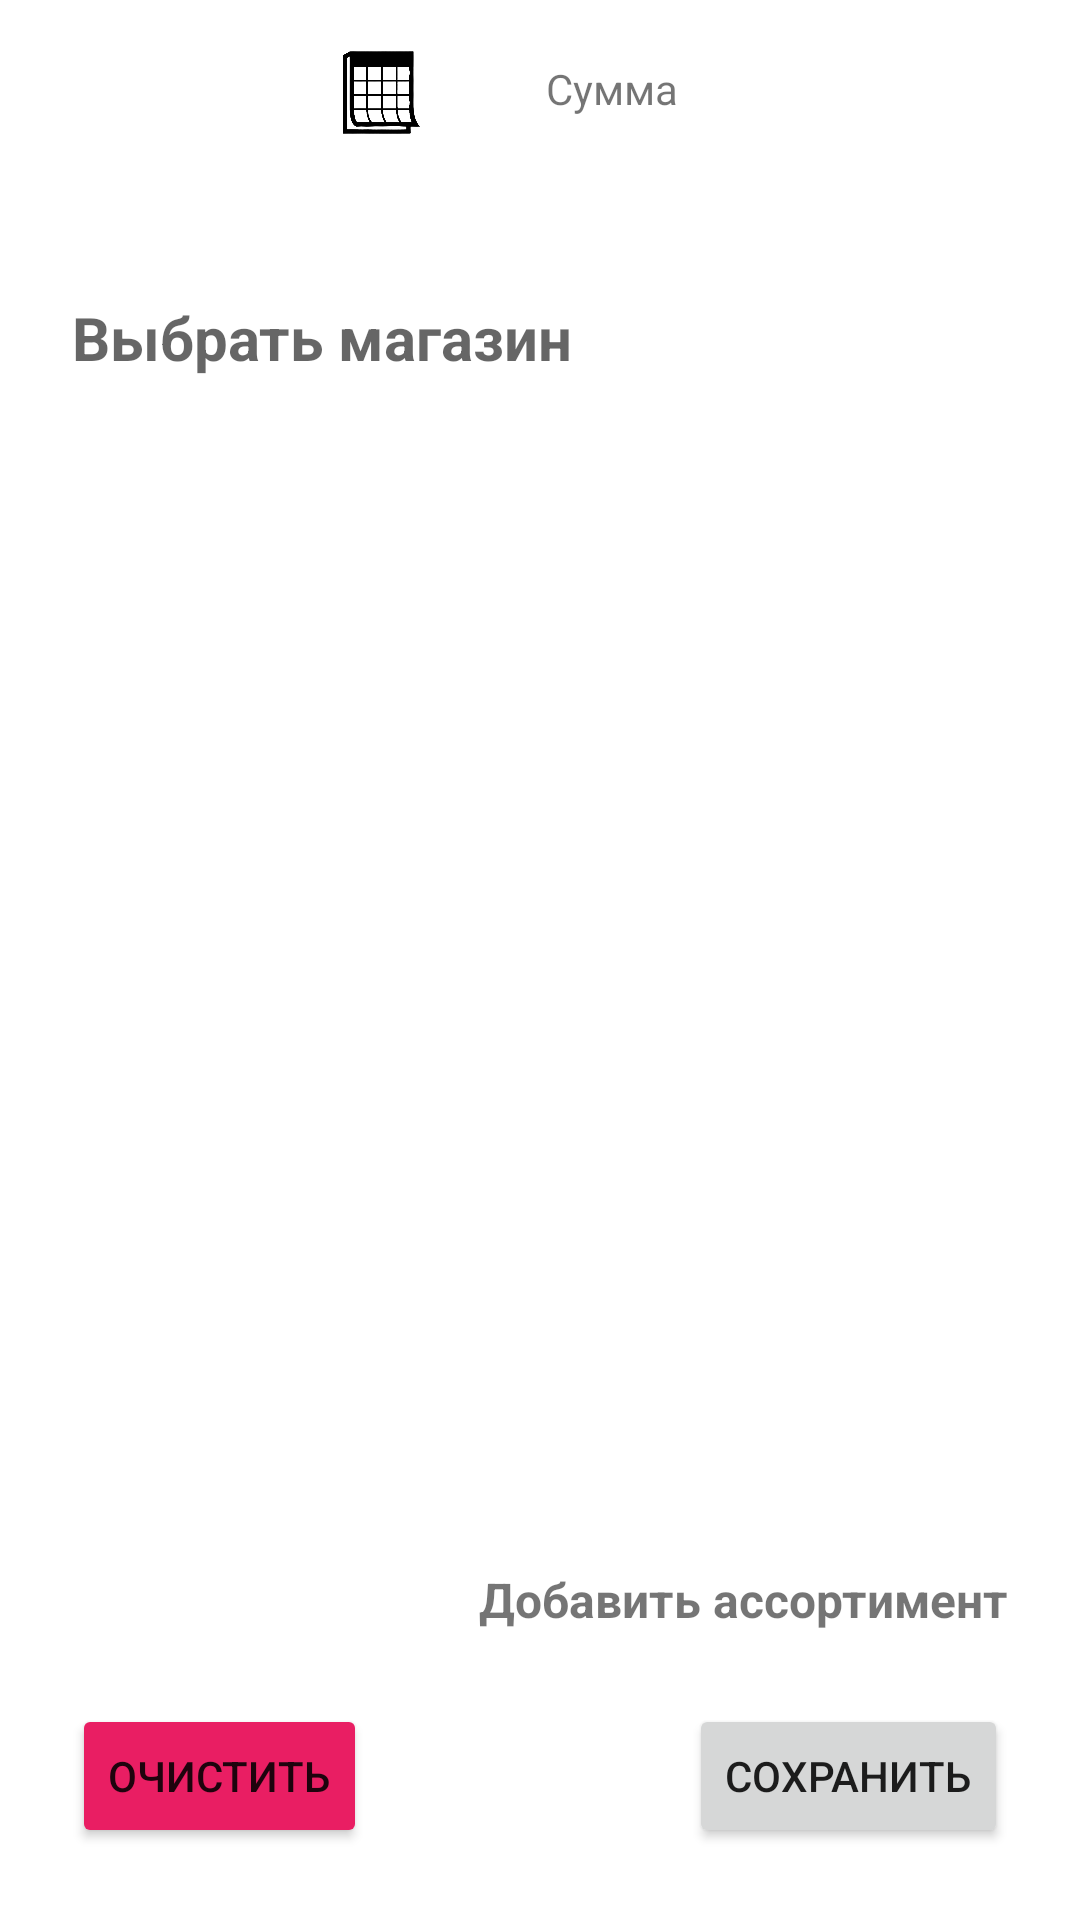

Screen size 1080×1920. Icon name, then its center in pixels as point (x, y):
calendar: point (381, 92)
